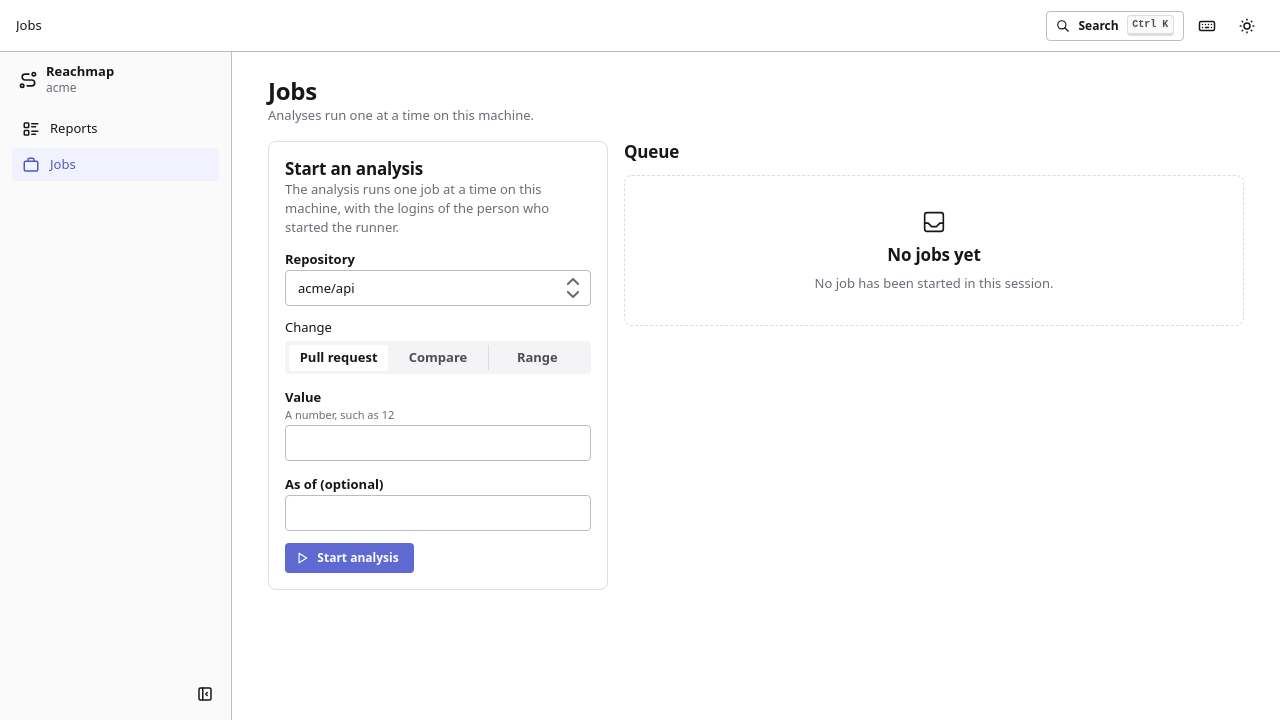
the keys of the page and the control that has the focus › opens the shortcuts with the question mark while a check box or a button has the focus
Click the radio button labelled "Compare" at (438, 357), box top-left (409, 348), bottom-right (467, 366)
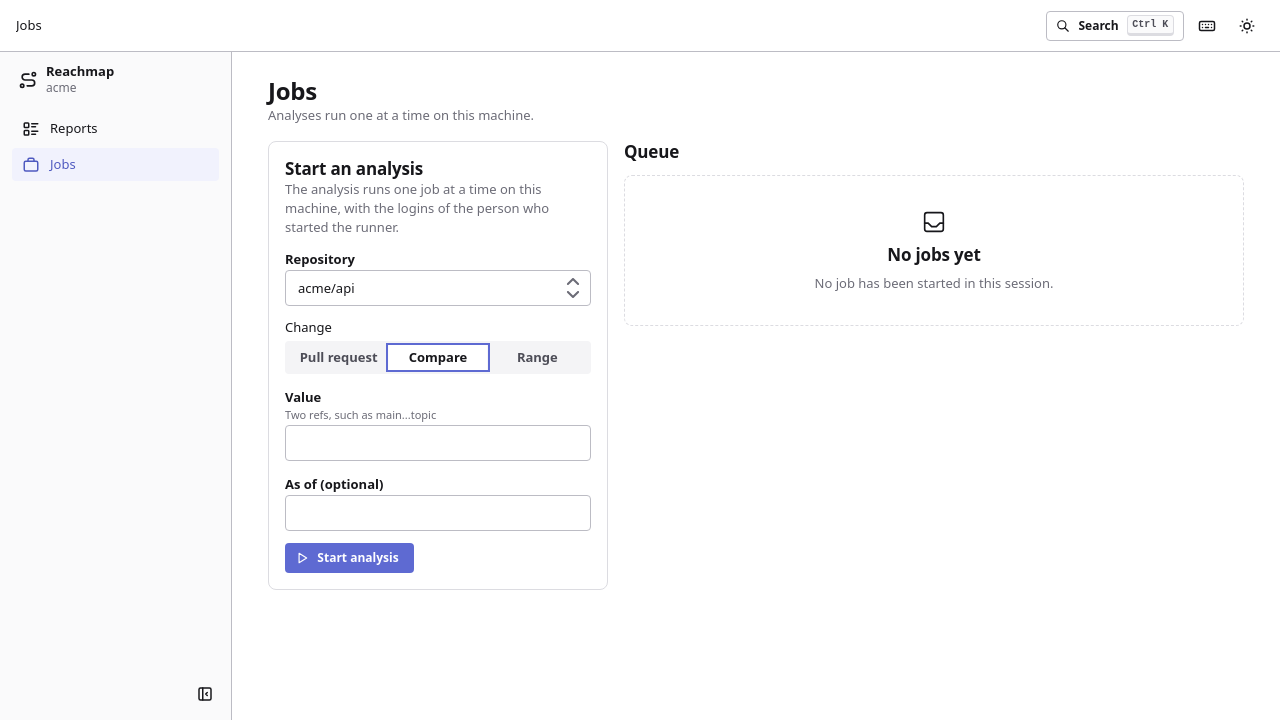
Type keys "?"
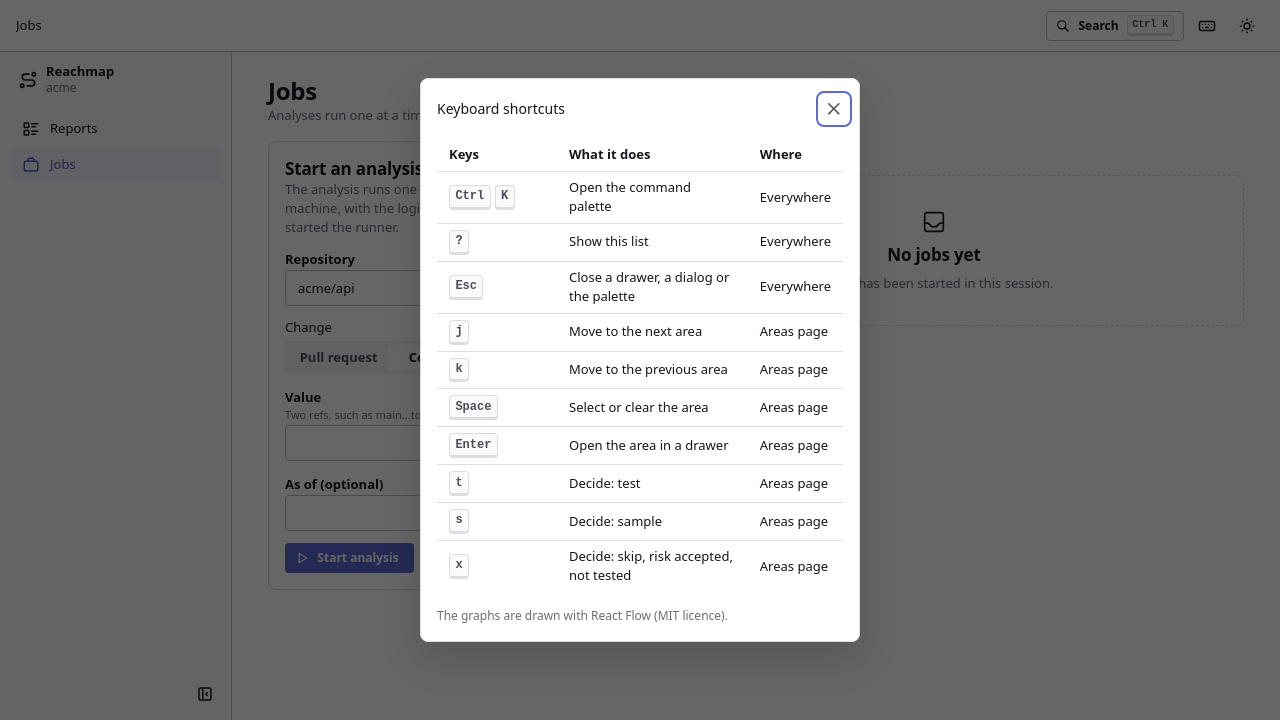
Expected: the dialog "Keyboard shortcuts" is shown, top-left (420, 78), bottom-right (860, 642)
